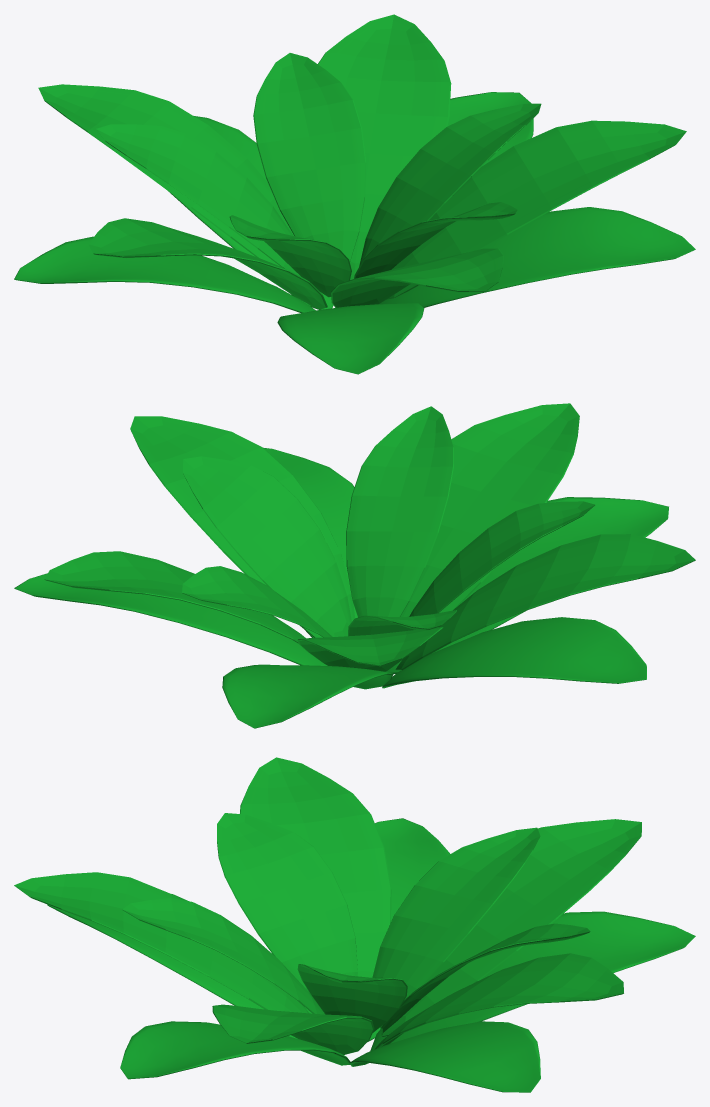
Rendered from Bush3.glb.
The picture shows the model from 3 angles, top to bottom: view 1: azimuth 30°, elevation 25°; view 2: azimuth 150°, elevation 25°; view 3: azimuth 270°, elevation 25°; orthographic projection.
Visible parts, largest first — view 1: 3 bush; view 2: 3 bush; view 3: 3 bush.
Part boxes in pixels (bbox=[...]): 3 bush: bbox=[14, 14, 695, 374]; 3 bush: bbox=[14, 403, 695, 728]; 3 bush: bbox=[14, 757, 695, 1092].
Bounding box in the file's own units: 1.72 × 0.4905 × 1.74.
1 material, 1 textured.
